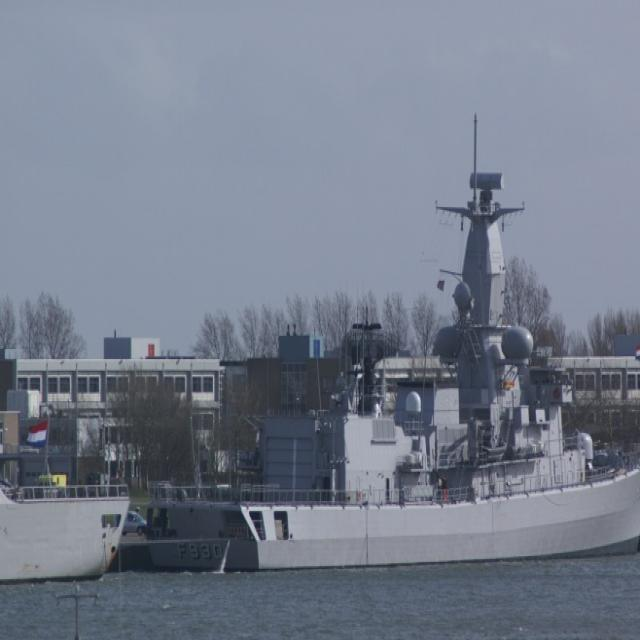Fragata: (132, 110, 640, 580)
